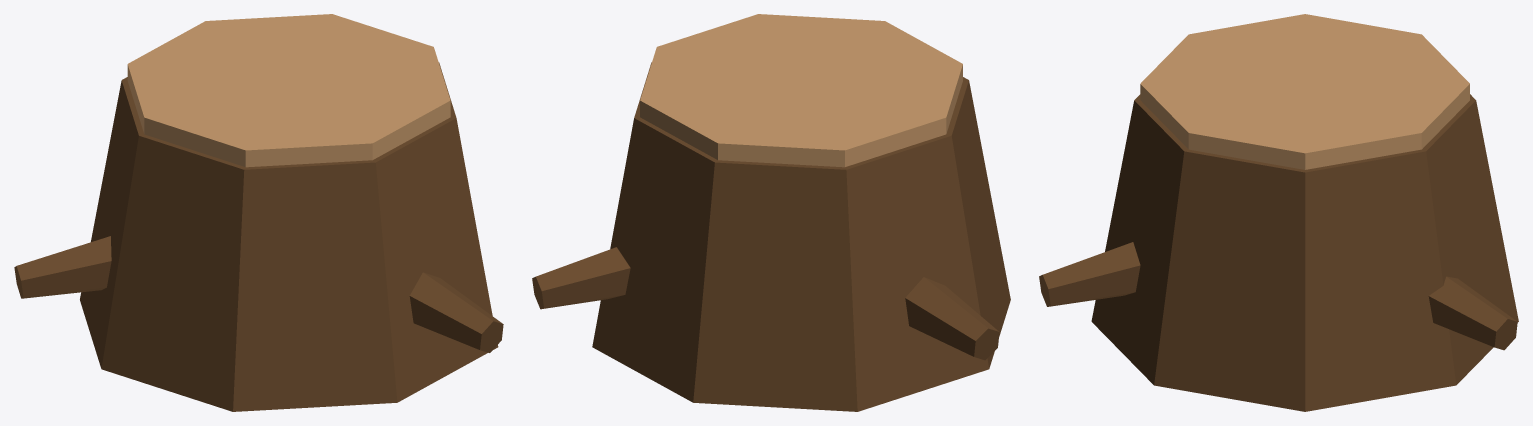
Rendered from stump.glb.
The picture shows the model from 3 angles, left to right: view 1: azimuth 30°, elevation 25°; view 2: azimuth 150°, elevation 25°; view 3: azimuth 270°, elevation 25°; orthographic projection.
Visible parts, largest first — view 1: stump; view 2: stump; view 3: stump.
Boxes of the visible parts, left/top/right/bottom form: stump: left=14, top=14, right=503, bottom=411; stump: left=532, top=14, right=1010, bottom=411; stump: left=1039, top=14, right=1518, bottom=411.
Bounding box in the file's own units: 1.57 × 0.86 × 1.57.
